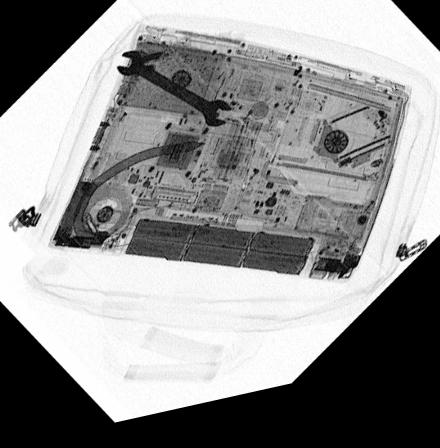Wrench: (113, 55, 232, 138)
